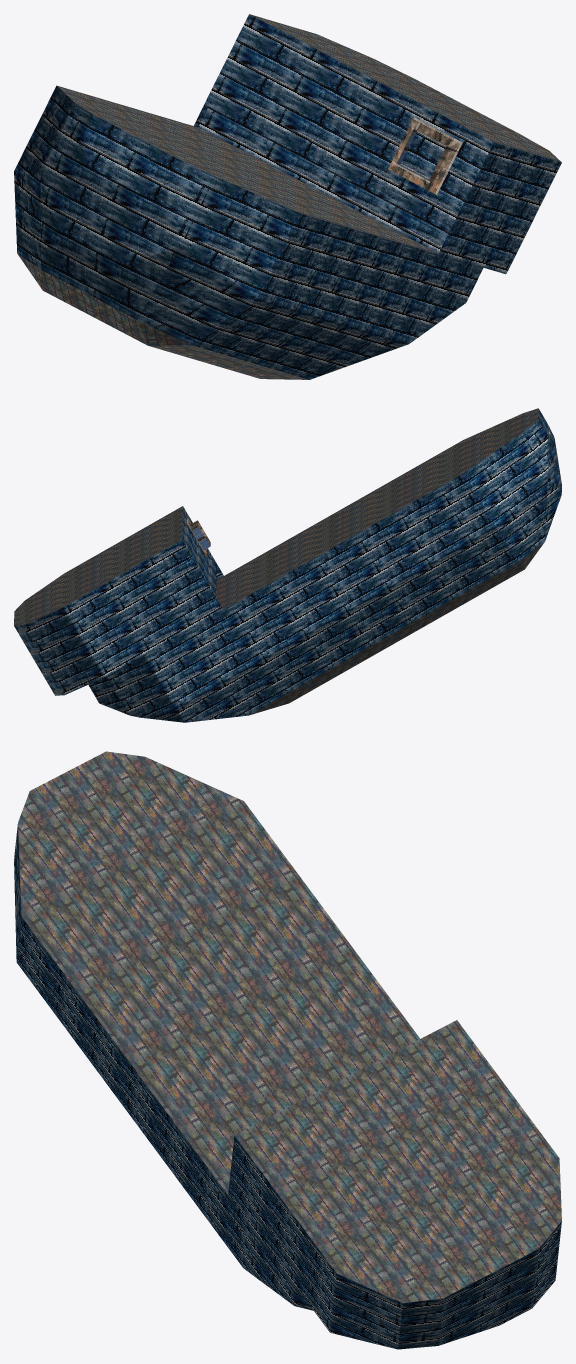
File: Nintendo 64 Super Mario 64 Jolly Roger Bay Sunken Ship.glb
3 views of the same model, one above another, from view 1: azimuth 30°, elevation 25°; view 2: azimuth 150°, elevation 25°; view 3: azimuth 270°, elevation 25° (orthographic). The views are drawn at different scales.
Visible parts, largest first — view 1: Sunken Ship; view 2: Sunken Ship; view 3: Sunken Ship.
Boxes of the visible parts, box(x1,y1,x2,y2) form: Sunken Ship: box(14, 14, 561, 379); Sunken Ship: box(14, 408, 561, 722); Sunken Ship: box(14, 751, 561, 1349).
Bounding box in the file's own units: 32 × 17.77 × 25.58.
12 materials, 12 textured.
